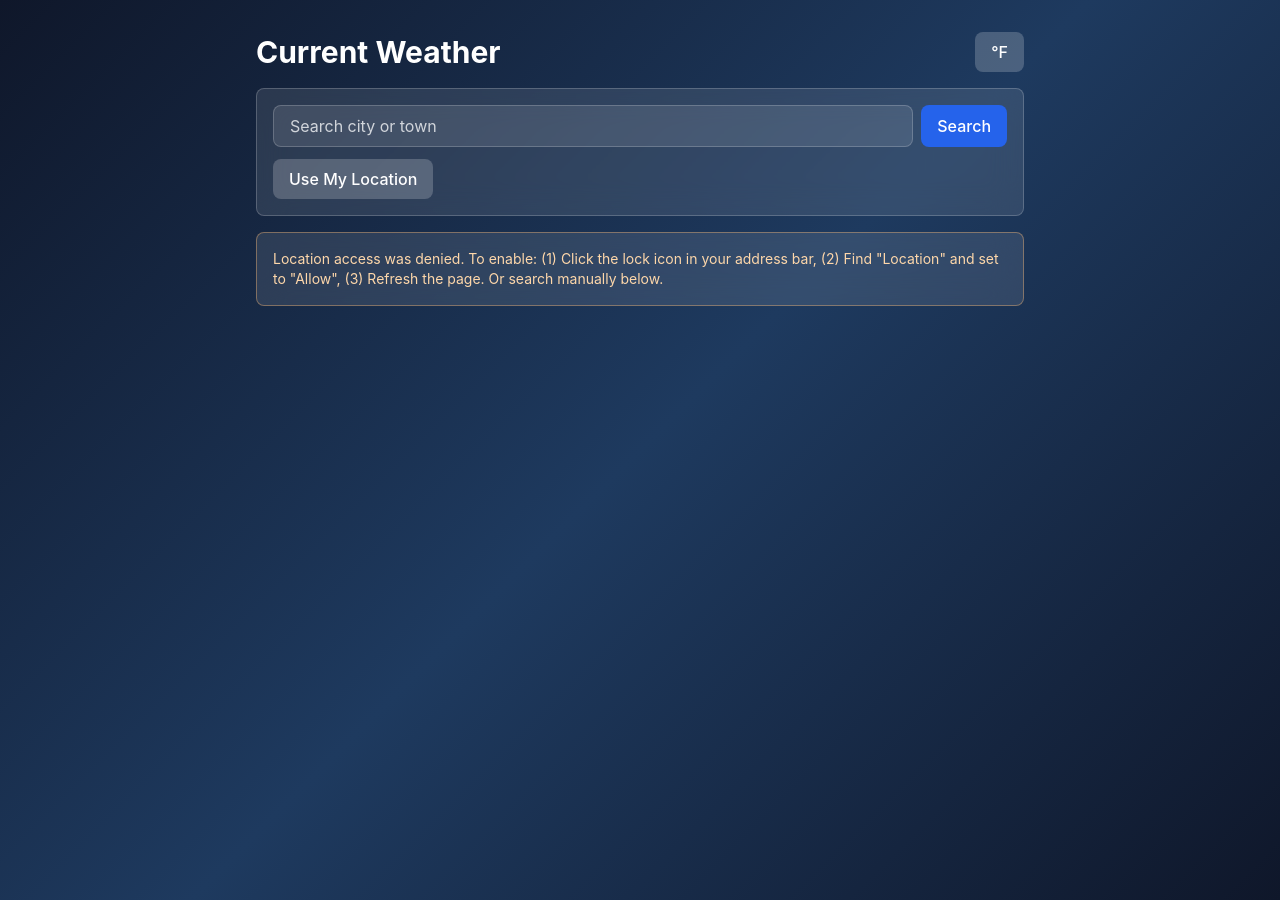
it: Fallback when permission denied (US2, FR-004/005/008) › allows manual search to succeed after denial (FR-004, FR-006)
Check: the text "Location access was denied" is shown, box [273, 250, 999, 287]
In the field named "location search": (593, 126) [273, 105, 913, 147], type "Chicago"
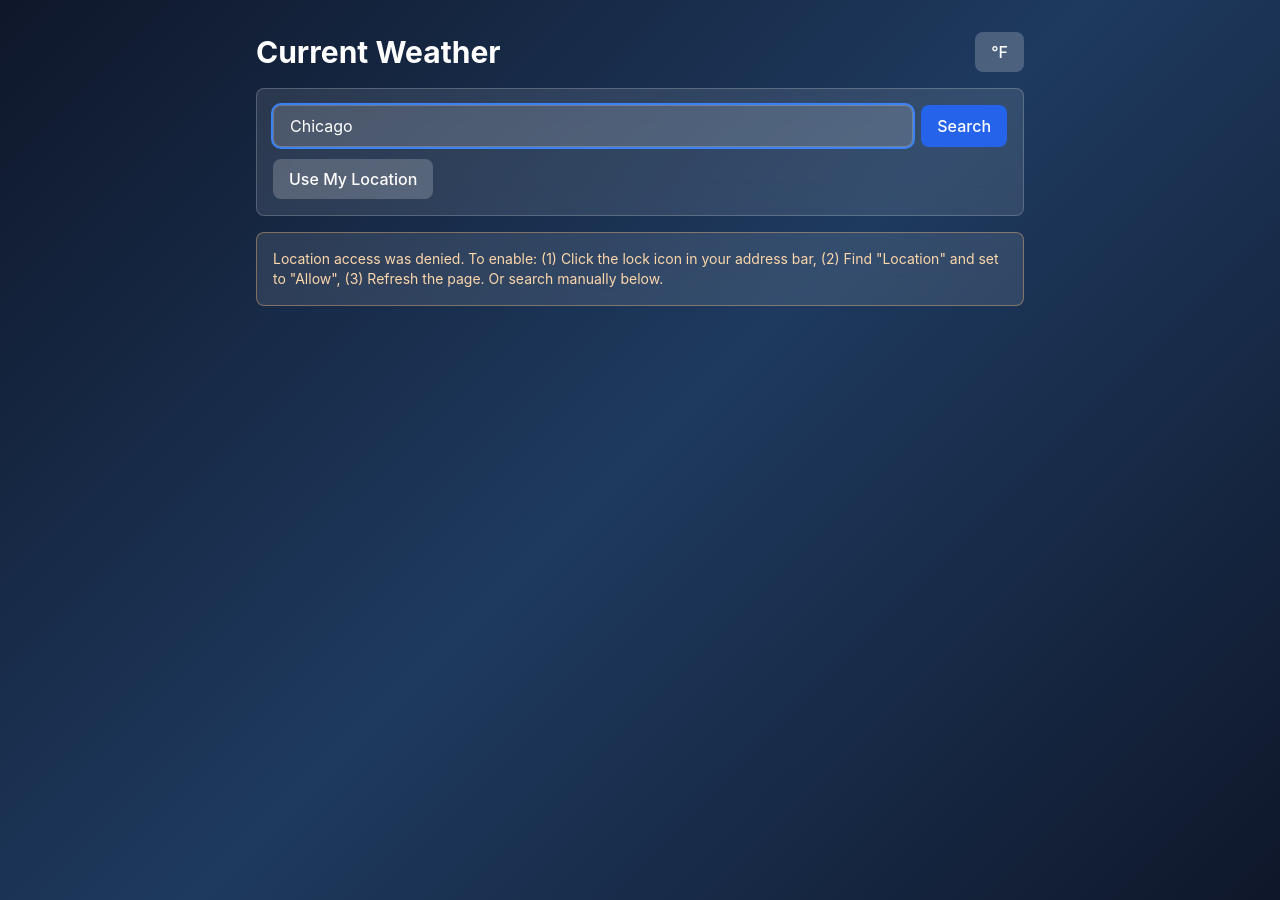
Click the button "Search": (964, 126) [921, 105, 1007, 147]
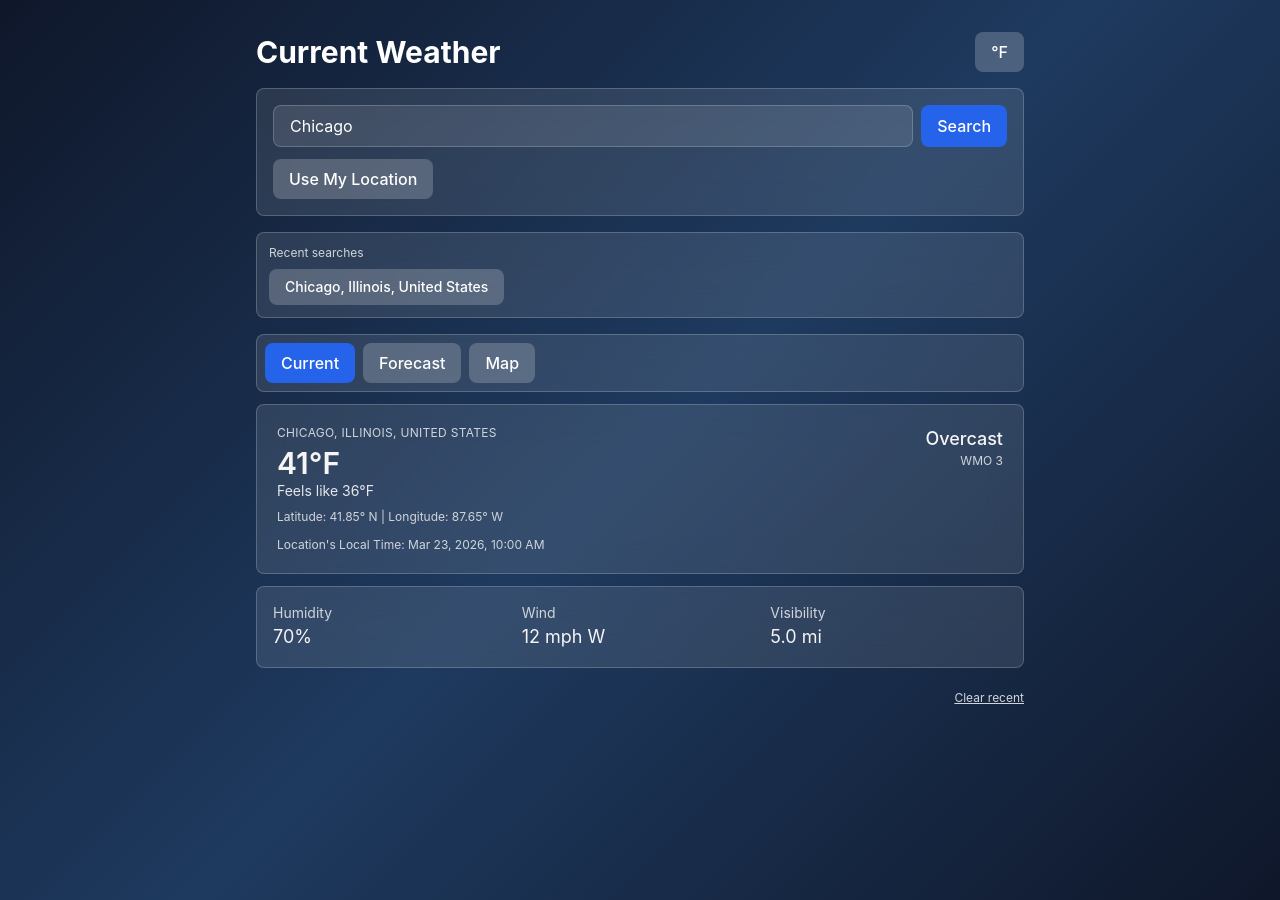
Check: the element named "current weather" is shown, box [256, 404, 1024, 574]
